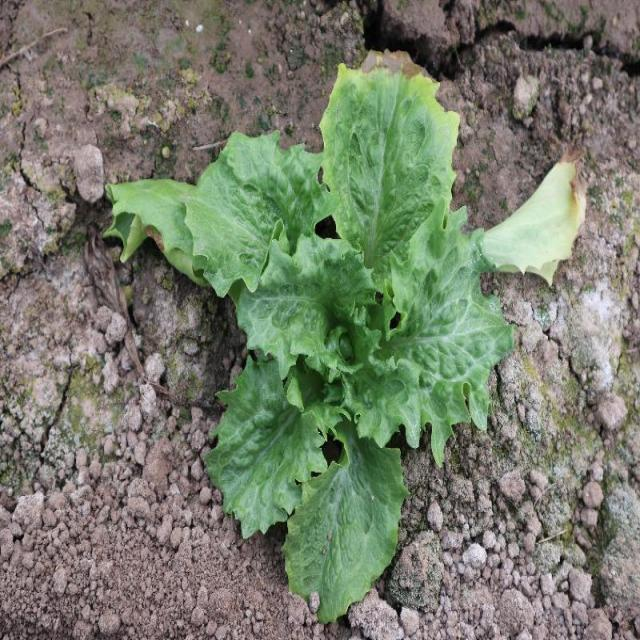crop: (110, 71, 508, 622)
